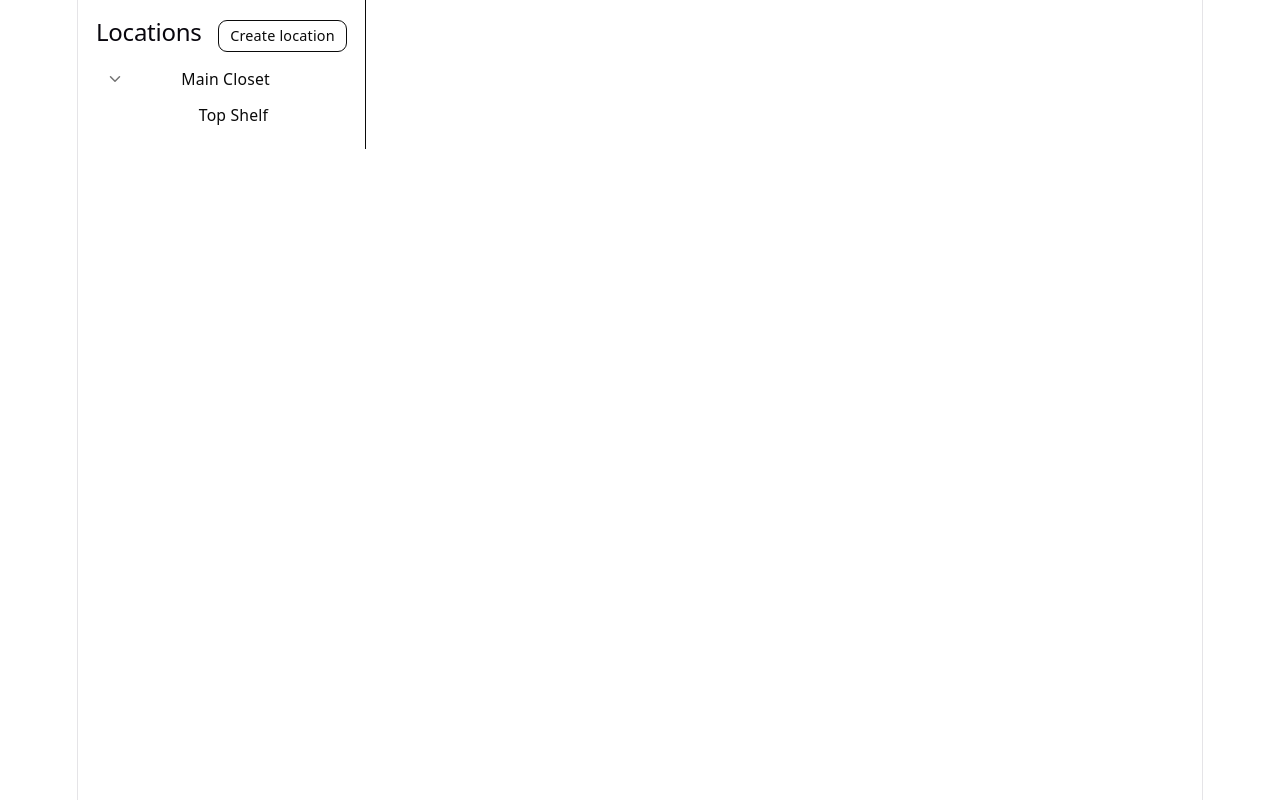
it: LocationsPage › LocationsPage should collapse children when expand toggle is clicked
The image size is (1280, 800).
Check: the text "Main Closet" is shown, box [181,68,270,90]
Check: the text "Top Shelf" is shown, box [199,104,268,126]
Click the button with test id "toggle-loc-001" at (115, 79), box [104,68,126,90]
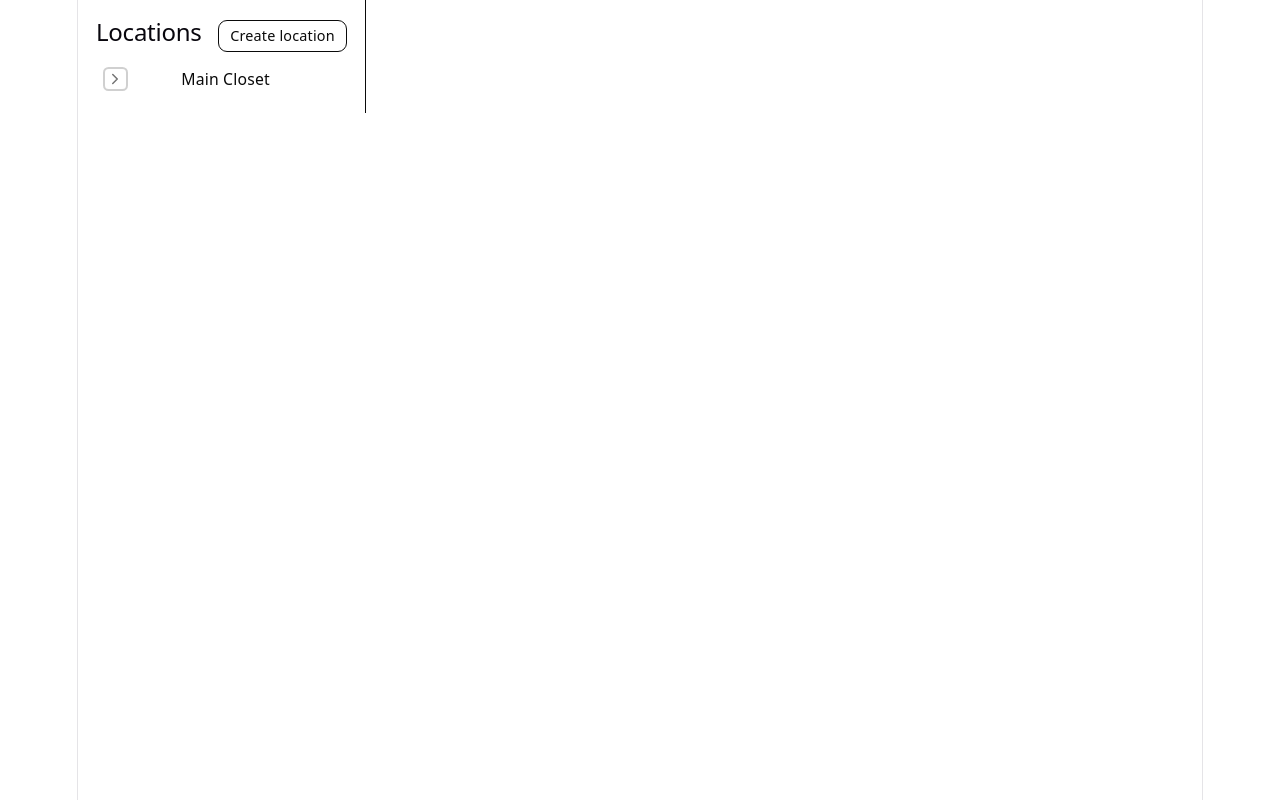
Check: the button "Top Shelf" is gone
